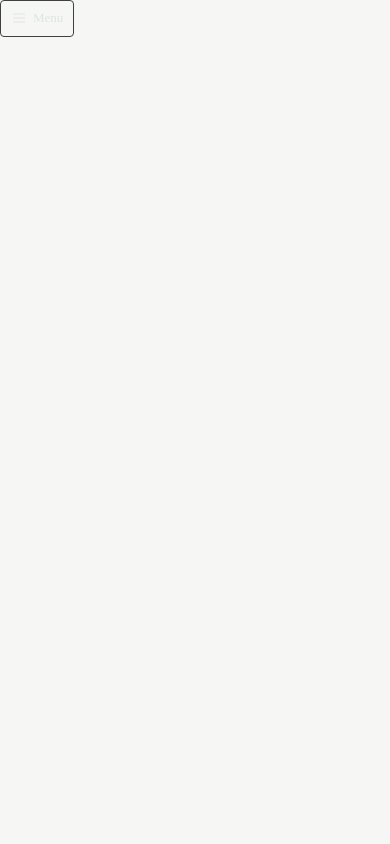
menu sheet › closes the menu when a link is chosen
The width and height of the screenshot is (390, 844).
Click the button "Menu".
click(37, 18)  # box [0,0,74,37]
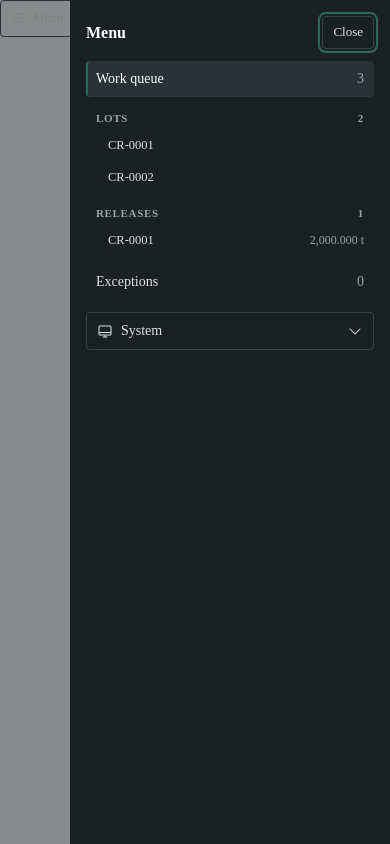
Click the link "CR-0002".
click(131, 177)  # box [108,170,154,184]
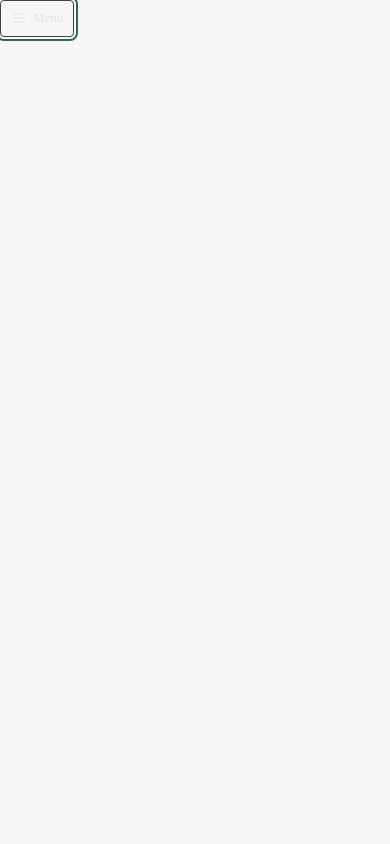
Check: the dialog is gone
# A pathname change (the chosen page arriving) also closes it.
Click the button "Menu".
click(37, 18)  # box [0,0,74,37]
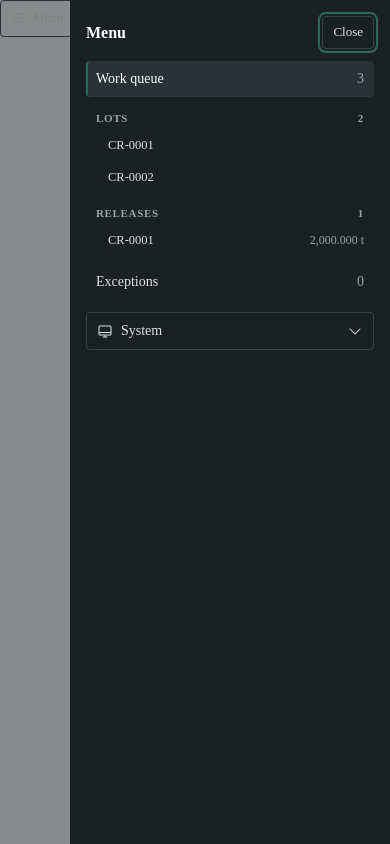
Check: the dialog "Menu" is shown
